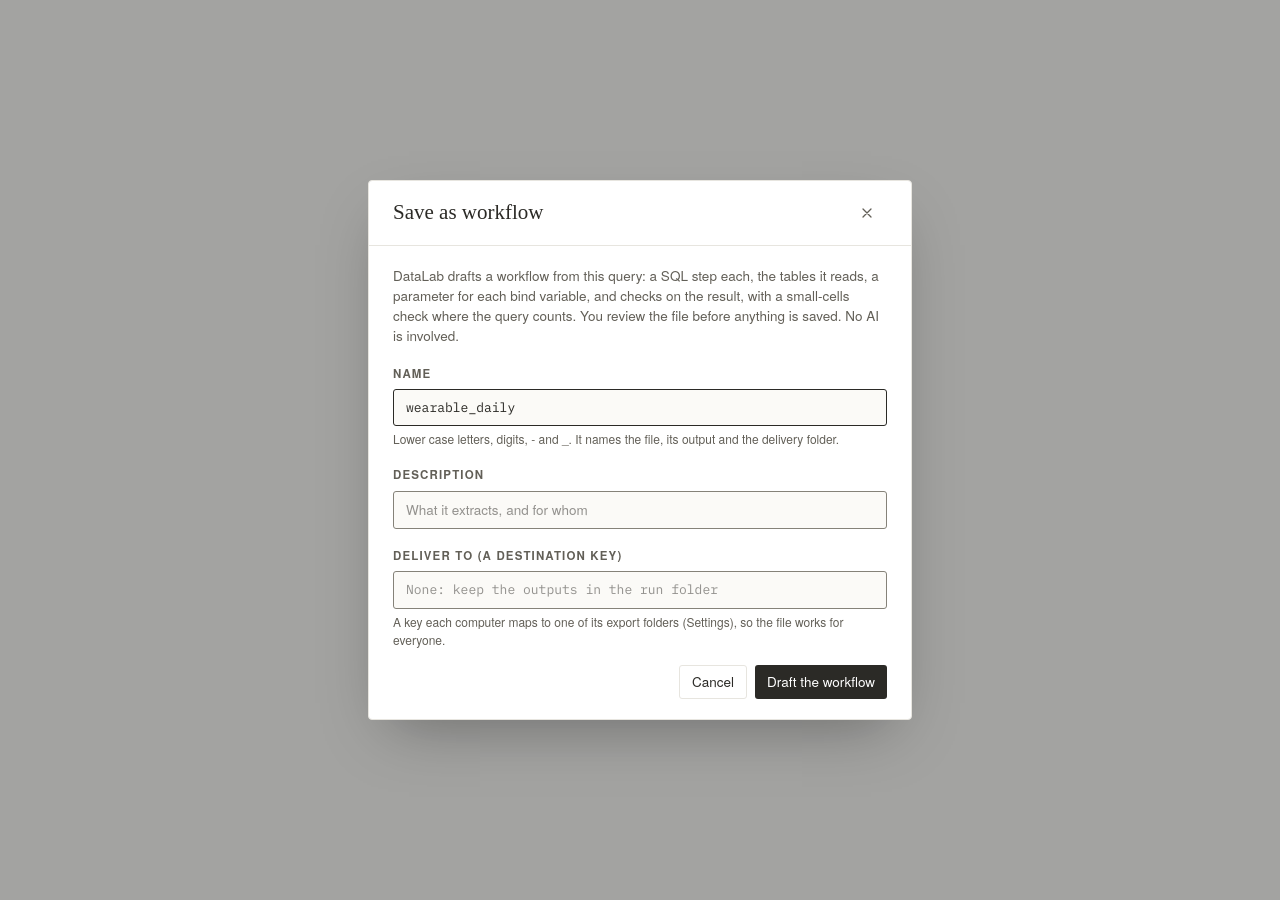
Test: won't save a draft with problems, and lists them with where they are
The width and height of the screenshot is (1280, 900).
Click the button "Draft the workflow". click: (821, 682)
box: x1=755 y1=665 x2=887 y2=699
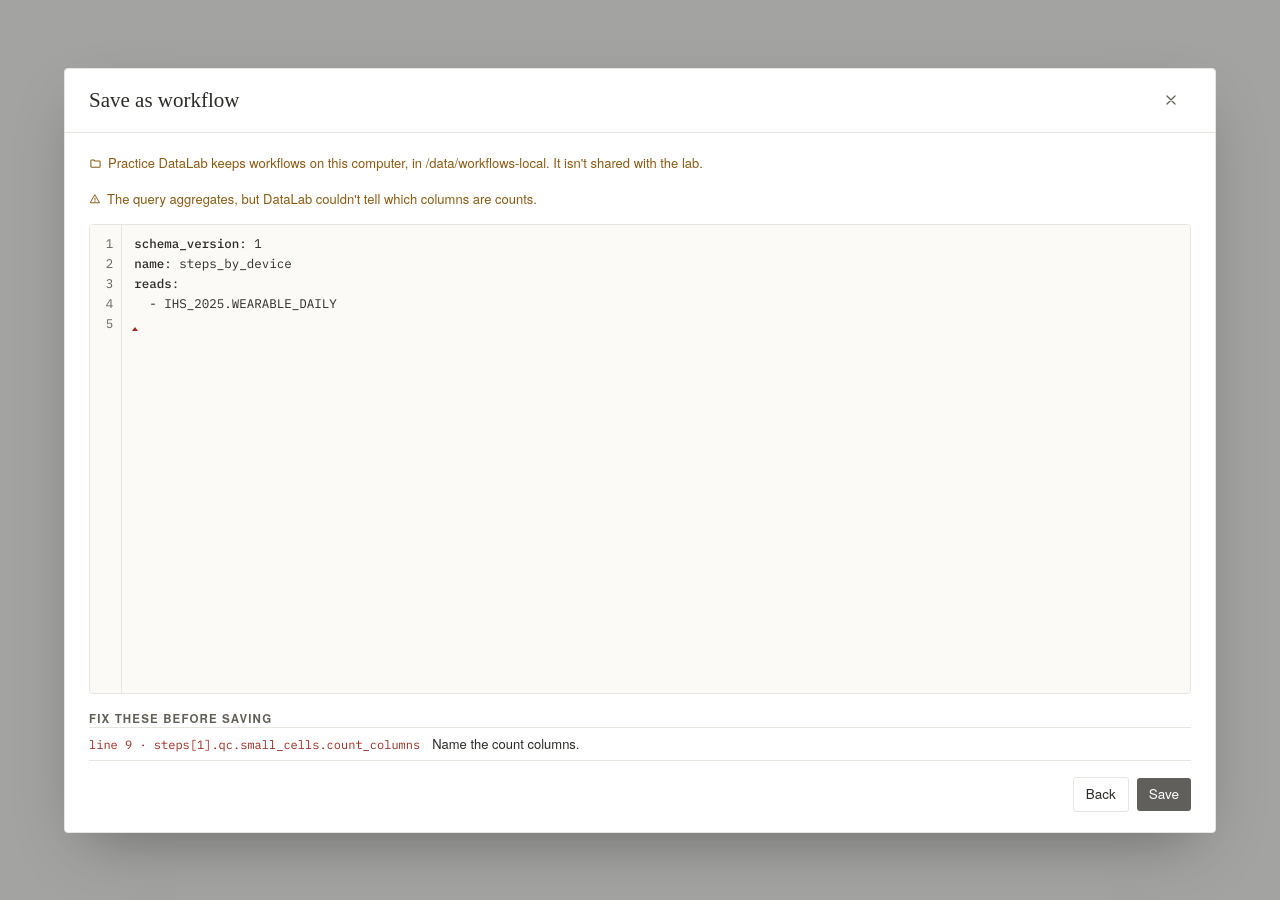
Expected: the text "Name the count columns." is shown, x1=432 y1=734 x2=580 y2=754
Expected: the list item "couldn't tell which columns are counts" is shown, x1=107 y1=188 x2=537 y2=208
Expected: the button "Save" is disabled, x1=1137 y1=778 x2=1191 y2=811
